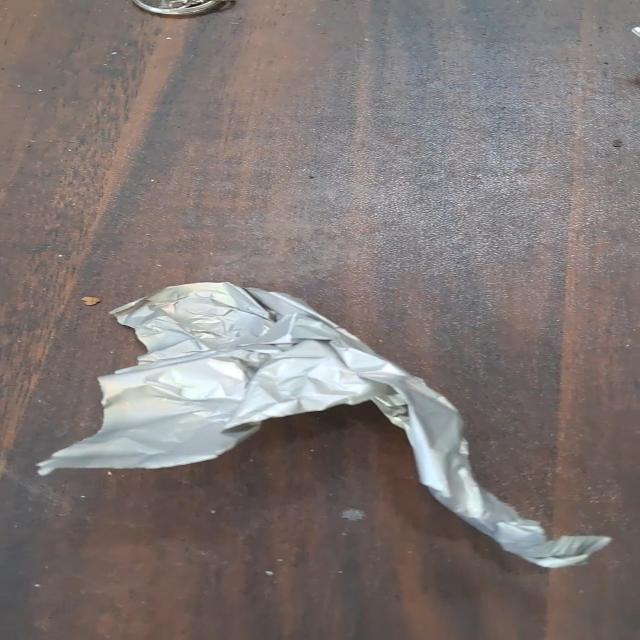Anorganik: (33, 278, 631, 580)
